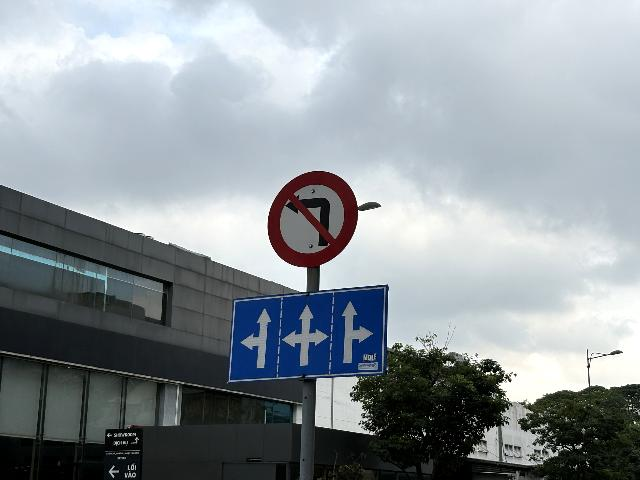cam-re-trai: (268, 169, 359, 268)
